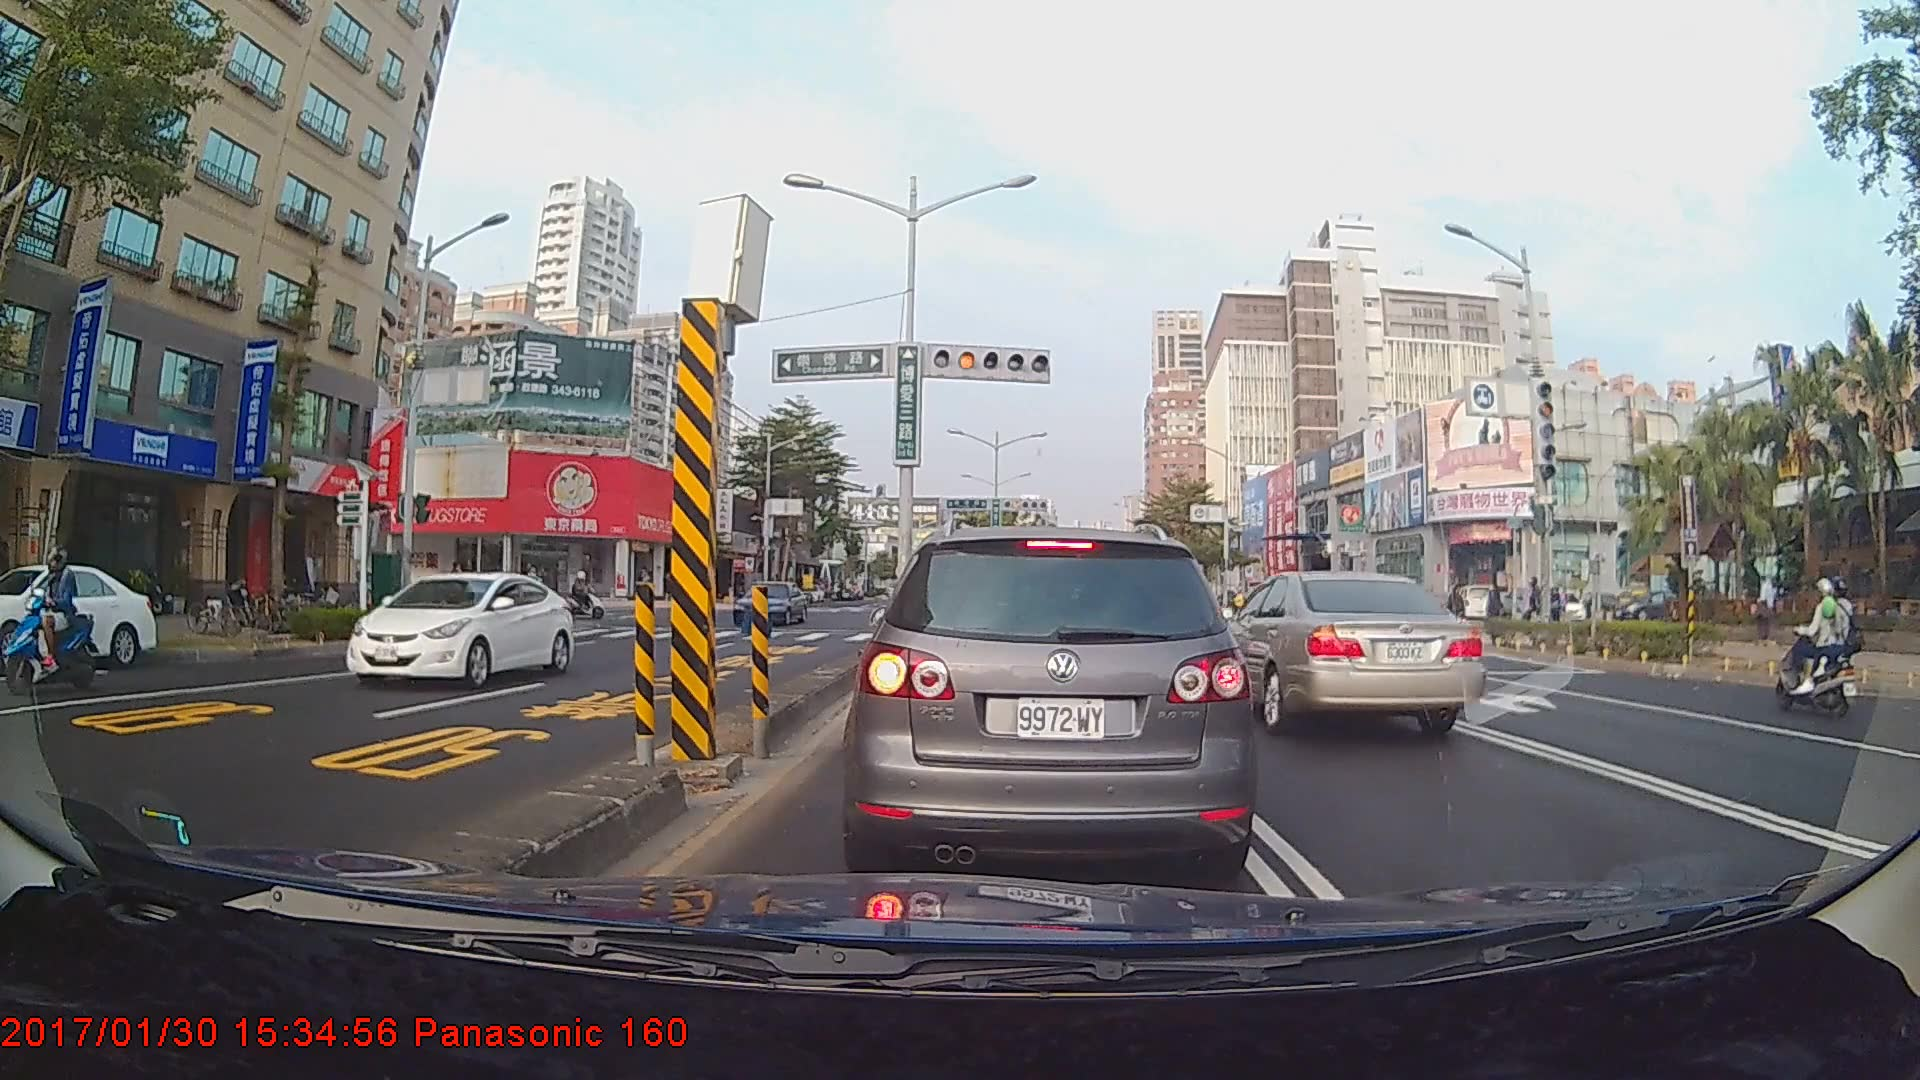pedestrian: (1753, 574, 1779, 646), (1484, 579, 1508, 637), (448, 558, 468, 621)
rider: (1, 549, 99, 693), (1771, 572, 1860, 716), (561, 568, 613, 625)
vehicle: (851, 524, 1249, 880), (1211, 568, 1485, 738), (344, 568, 571, 689), (0, 561, 174, 671), (729, 581, 806, 626)
